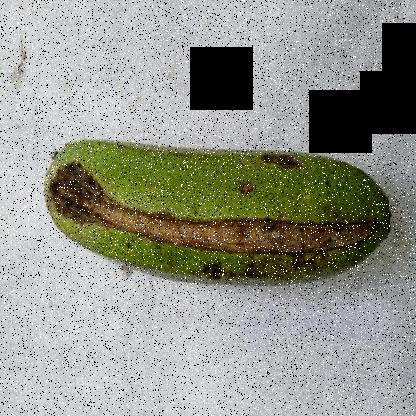rotten: (103, 199, 381, 268), (39, 150, 120, 257)
